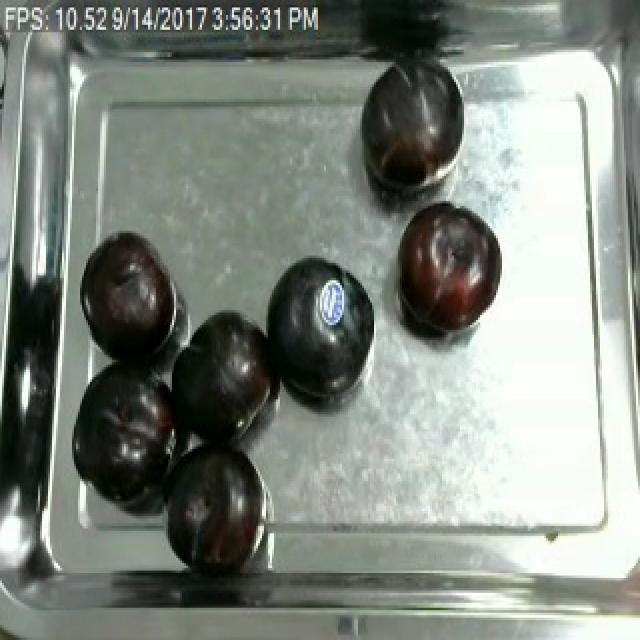Fruit: (256, 250, 378, 410), (158, 300, 286, 447), (390, 198, 506, 345), (354, 60, 470, 196), (164, 436, 272, 576), (78, 226, 182, 367)
